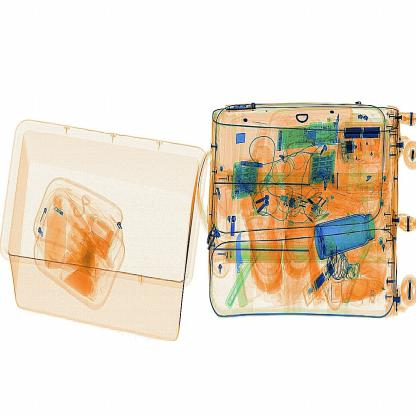wrench: (228, 224, 255, 317)
